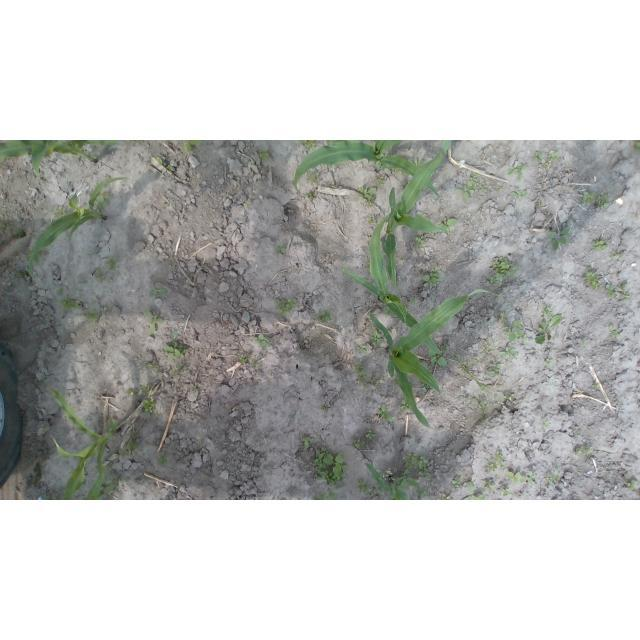Maize: (370, 289, 506, 430), (345, 212, 442, 355), (26, 177, 129, 279), (383, 141, 456, 284), (292, 141, 443, 197), (47, 387, 114, 500), (1, 141, 119, 175), (363, 462, 417, 500)
Weeds: (459, 357, 500, 396), (314, 446, 348, 486), (535, 313, 561, 344), (491, 255, 518, 277), (547, 227, 569, 249), (421, 267, 442, 289), (506, 162, 529, 181), (461, 482, 485, 500), (503, 319, 523, 340), (275, 297, 297, 316), (582, 267, 600, 289), (397, 471, 420, 487), (146, 312, 163, 333), (501, 342, 520, 360), (377, 404, 393, 424), (120, 442, 137, 459), (430, 351, 448, 367), (164, 343, 182, 359), (151, 282, 168, 297), (418, 458, 432, 476), (484, 480, 498, 497), (507, 471, 525, 484), (369, 372, 387, 385), (511, 188, 529, 201), (483, 363, 502, 375), (485, 460, 500, 475), (371, 328, 383, 346), (158, 157, 172, 172), (403, 452, 415, 469), (441, 218, 456, 231), (482, 338, 494, 354), (546, 470, 561, 482), (140, 359, 158, 369), (255, 334, 270, 346), (319, 310, 334, 322), (183, 141, 199, 152), (356, 365, 367, 381), (359, 187, 376, 197), (302, 434, 315, 447), (540, 305, 554, 317), (32, 464, 40, 485), (597, 192, 608, 207), (613, 249, 628, 260), (606, 284, 618, 297), (95, 269, 107, 282), (144, 399, 156, 412), (456, 186, 469, 198), (540, 419, 551, 433), (61, 297, 75, 308), (469, 175, 479, 190), (357, 479, 369, 491), (259, 149, 270, 162), (528, 472, 537, 487), (83, 310, 98, 319), (548, 151, 560, 162), (582, 192, 594, 203), (499, 486, 512, 496), (495, 452, 505, 465), (593, 240, 607, 249), (452, 477, 463, 488), (366, 429, 378, 439), (352, 440, 365, 449), (401, 400, 410, 413), (298, 141, 314, 148), (628, 480, 638, 490), (307, 174, 317, 184), (357, 345, 368, 354), (139, 385, 151, 393), (545, 358, 555, 367), (610, 325, 619, 335), (491, 278, 501, 287), (54, 207, 64, 216), (126, 388, 136, 397), (238, 356, 248, 365), (327, 491, 337, 500), (1, 223, 11, 232), (363, 200, 373, 209), (505, 390, 516, 398), (480, 183, 488, 194), (535, 152, 544, 161), (159, 454, 168, 463), (376, 175, 385, 184), (583, 448, 593, 456), (128, 140, 144, 145), (108, 257, 116, 267), (172, 330, 180, 340), (276, 245, 284, 255), (481, 411, 487, 424), (633, 141, 640, 152), (543, 162, 554, 169), (572, 448, 580, 457), (14, 228, 23, 236), (421, 490, 429, 499), (306, 193, 314, 202), (367, 215, 375, 224), (417, 236, 424, 246), (442, 493, 453, 499), (478, 402, 486, 410), (372, 484, 380, 492), (172, 370, 180, 378), (592, 381, 599, 390), (56, 288, 65, 295), (621, 293, 629, 300), (133, 434, 140, 442), (408, 297, 416, 304), (288, 413, 296, 420), (580, 341, 589, 347), (618, 284, 627, 290), (249, 360, 259, 365), (17, 272, 24, 279), (574, 429, 582, 435), (191, 384, 197, 392), (36, 381, 43, 387), (321, 405, 328, 411), (498, 186, 503, 193), (316, 497, 327, 500), (117, 272, 122, 277), (549, 346, 555, 350), (92, 300, 97, 304)
